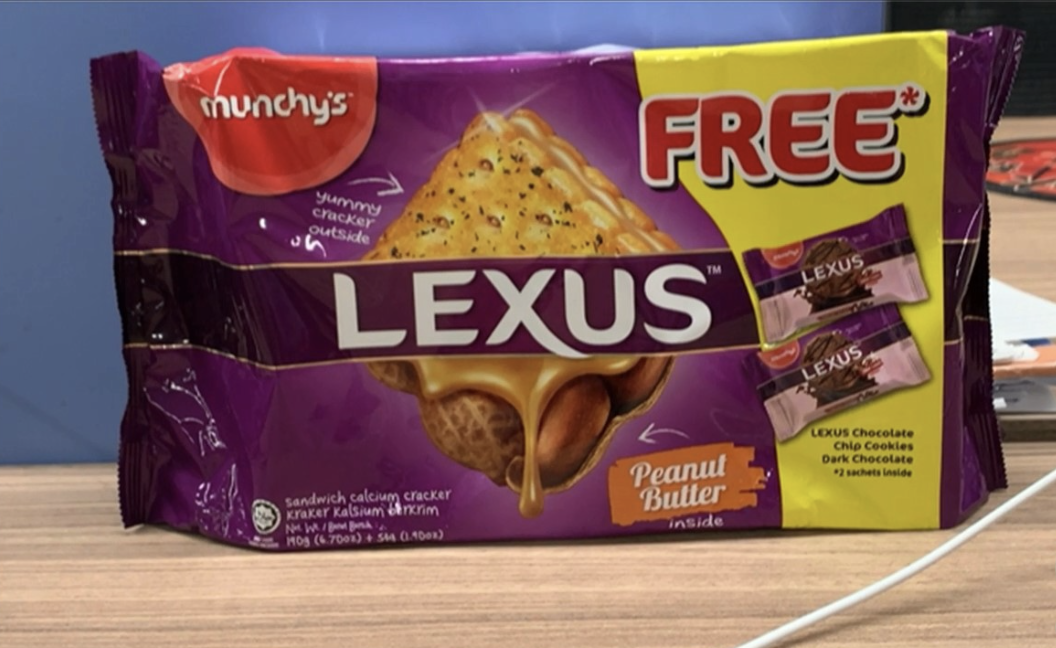crackers_150g: (197, 99, 931, 548)
